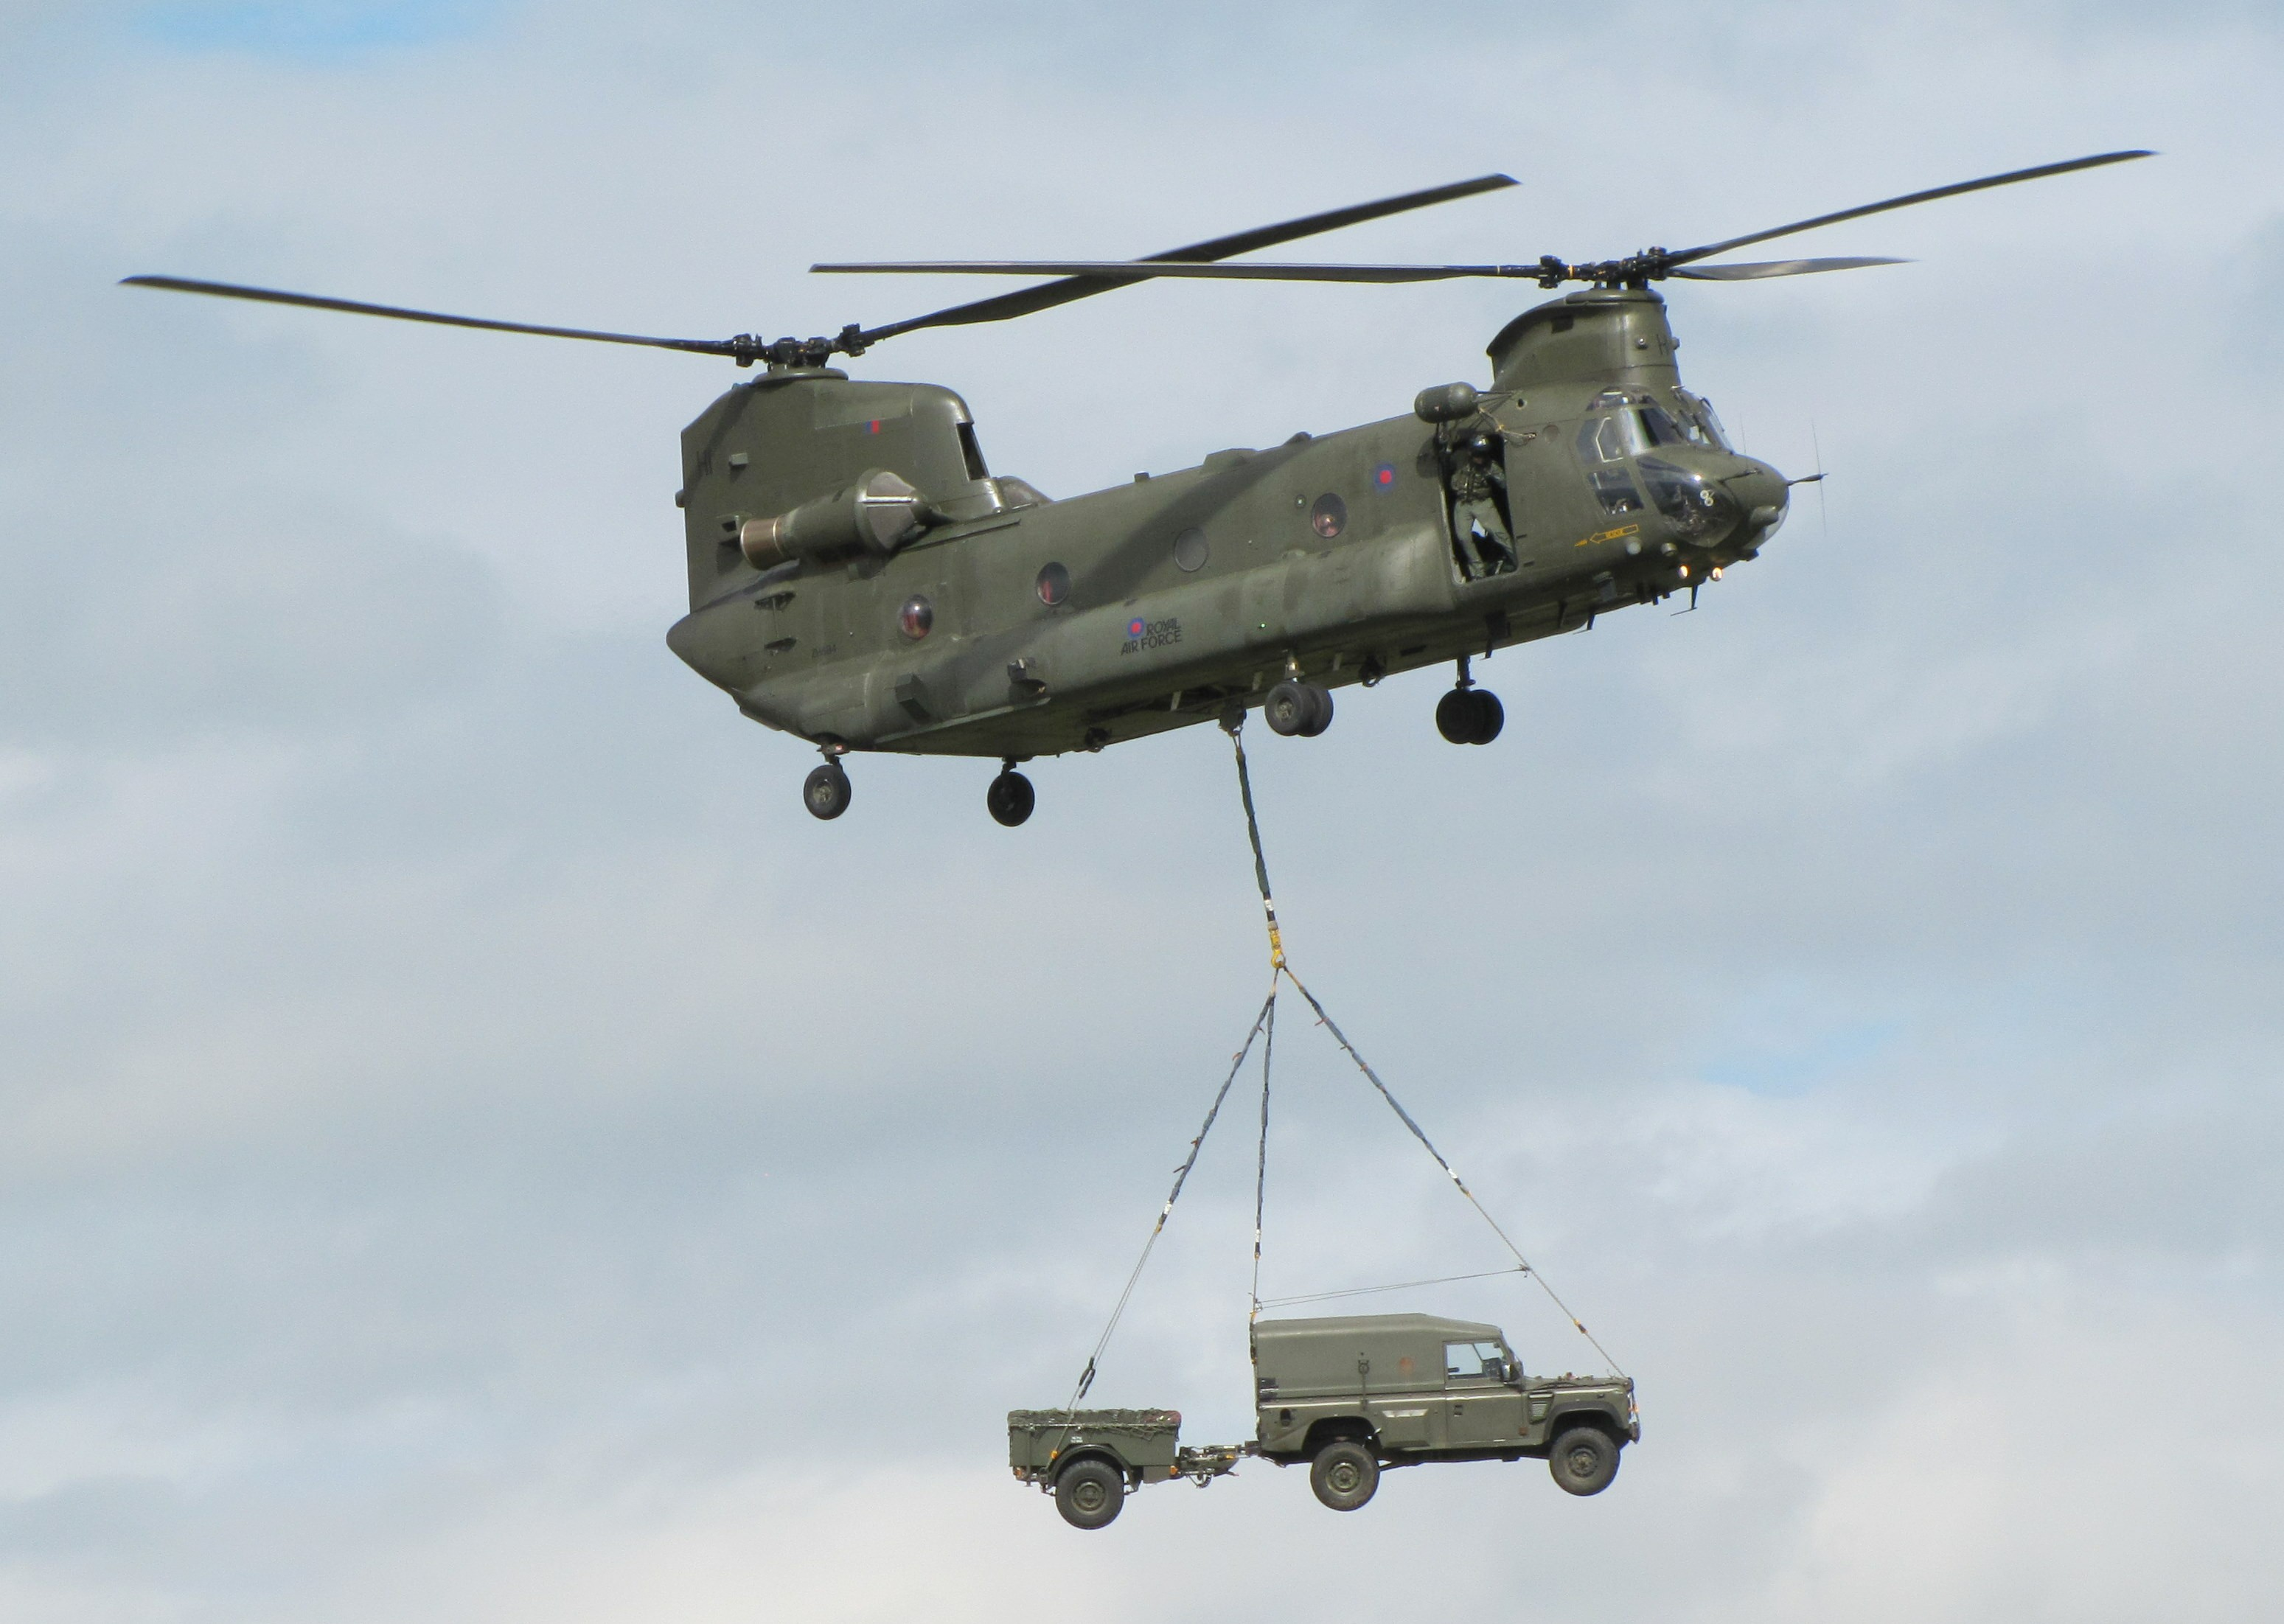chinook: (494, 153, 2070, 838)
